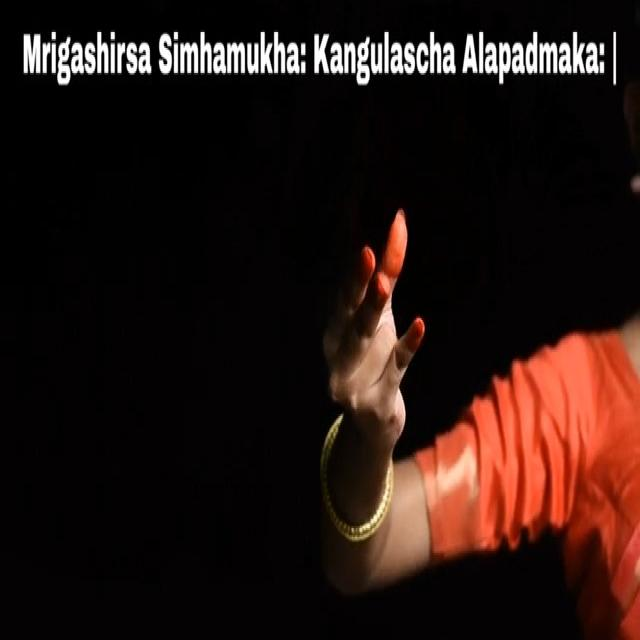Kangula: (320, 207, 450, 475)
bangle: (310, 452, 402, 550)
text: (13, 15, 620, 101)
